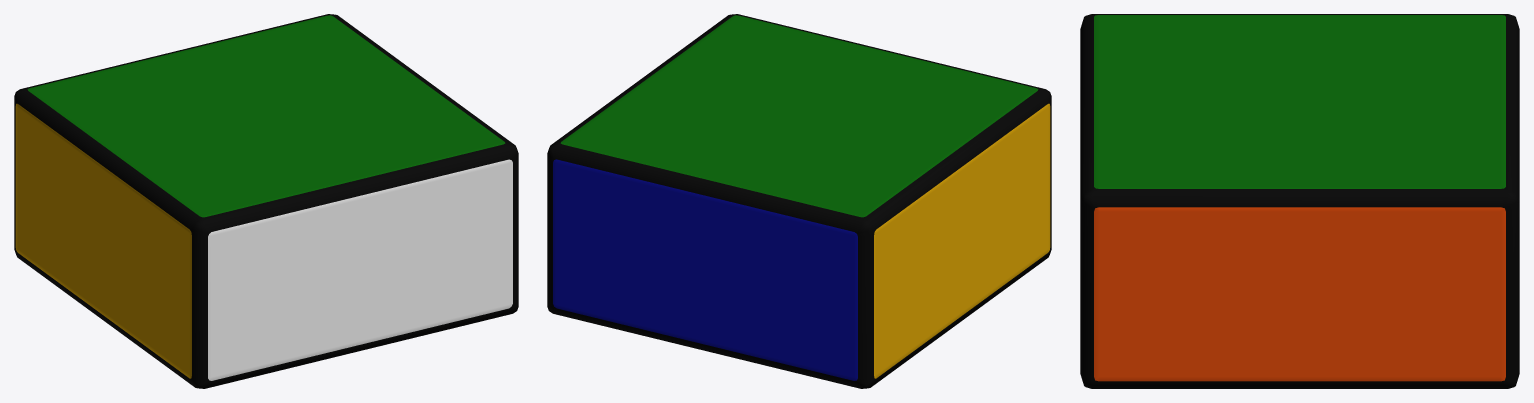
3 views of the same model, side by side, from view 1: azimuth 30°, elevation 25°; view 2: azimuth 150°, elevation 25°; view 3: azimuth 270°, elevation 25° (orthographic). The views are drawn at different scales.
Visible parts, largest first — view 1: 22; view 2: 22; view 3: 22.
Boxes of the visible parts, bbox=[...] form: 22: bbox=[14, 14, 518, 388]; 22: bbox=[547, 14, 1051, 388]; 22: bbox=[1080, 14, 1519, 388].
Size of the model in its own units: 20 by 10 by 20.
